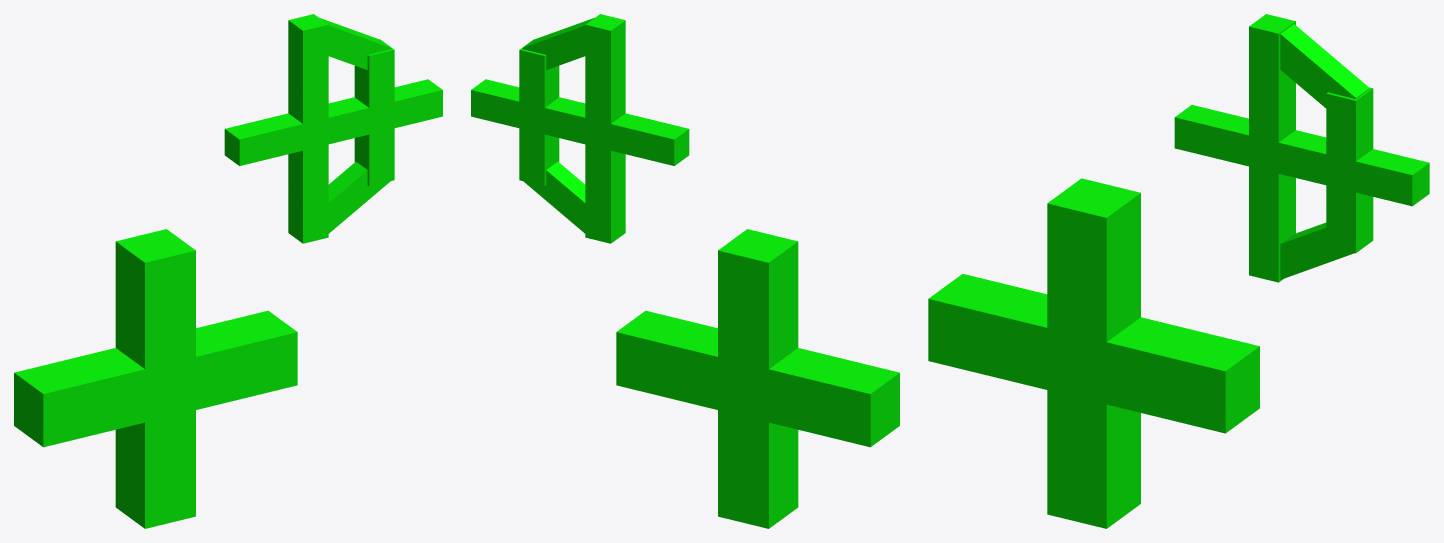
File: ShotBooster.fbx
The picture shows the model from 3 angles, left to right: view 1: azimuth 30°, elevation 25°; view 2: azimuth 150°, elevation 25°; view 3: azimuth 330°, elevation 25°; orthographic projection. The views are drawn at different scales.
Parts seen in each view (by area): view 1: Cube.001, Cube.005; view 2: Cube.001, Cube.005; view 3: Cube.001, Cube.005.
Part boxes in pixels (<box>): Cube.001: <box>14,229,297,528</box>; Cube.005: <box>224,14,442,243</box>; Cube.001: <box>616,229,899,528</box>; Cube.005: <box>471,14,689,243</box>; Cube.001: <box>928,178,1259,528</box>; Cube.005: <box>1174,14,1429,282</box>.
Size of the model in its own units: 160 by 170 by 20.
